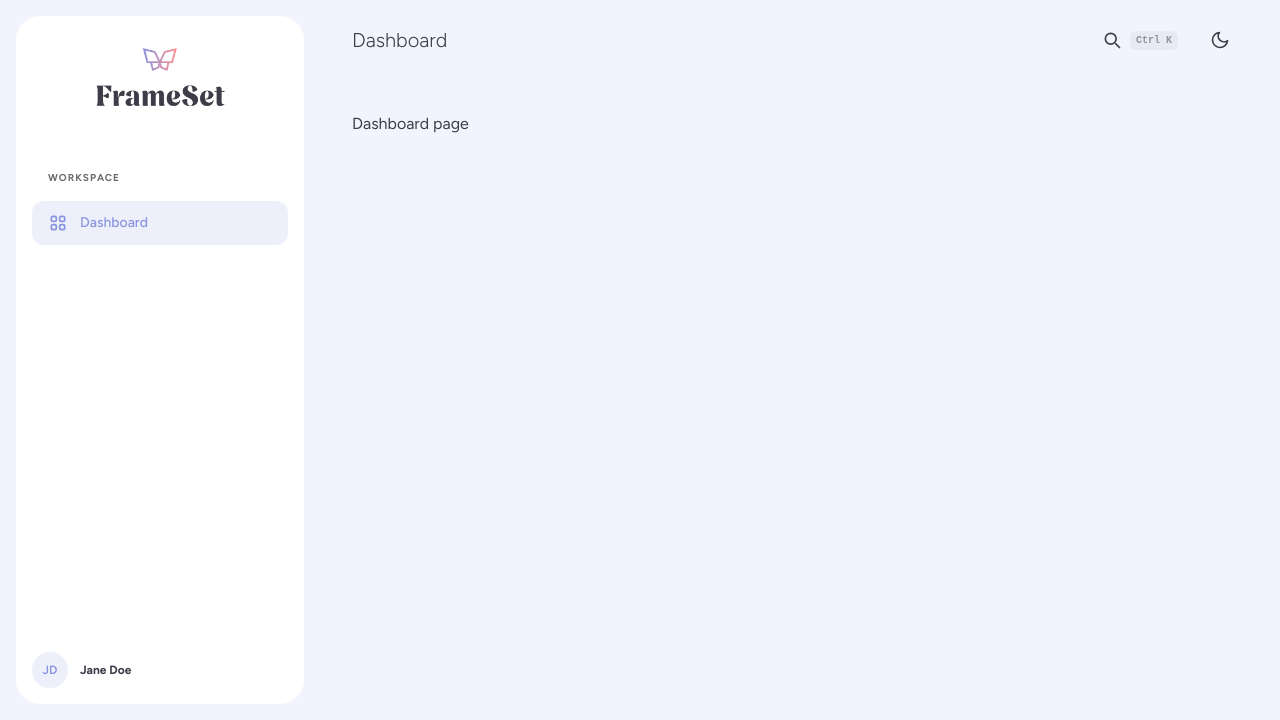
Scenario: MainLayout unsaved-changes navigation guard › navigates freely when there are no unsaved changes
What coordinates should you click on to do the following:
click the link "JD Jane Doe"
I would click on:
 (82, 670)
Its box is 32,652 -> 131,688.
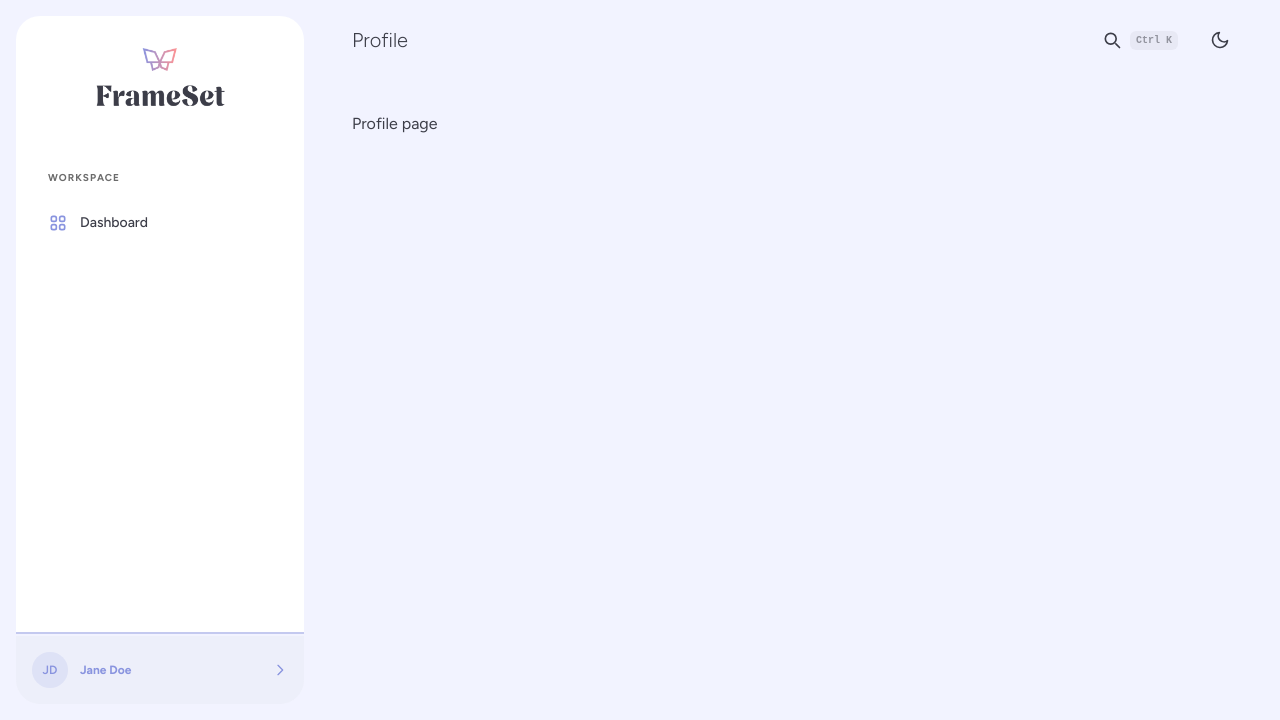
Expected: the text "Profile page" is shown, 352,114 -> 438,133
